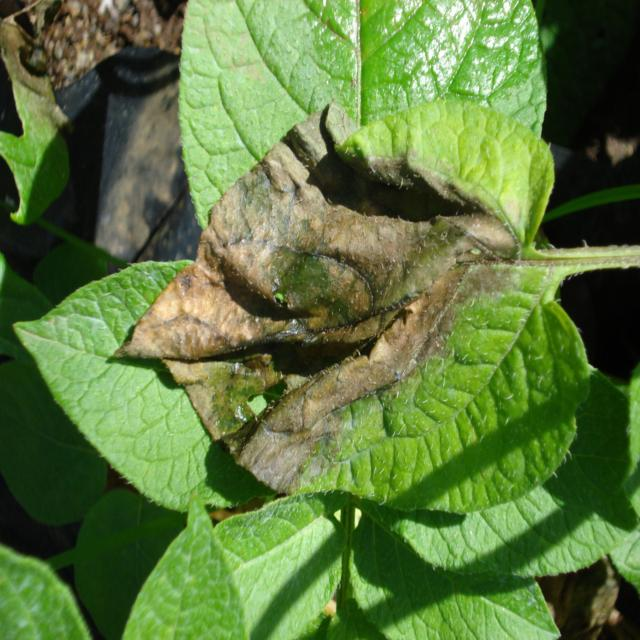Late_blight: (111, 105, 534, 493), (1, 1, 183, 125)
